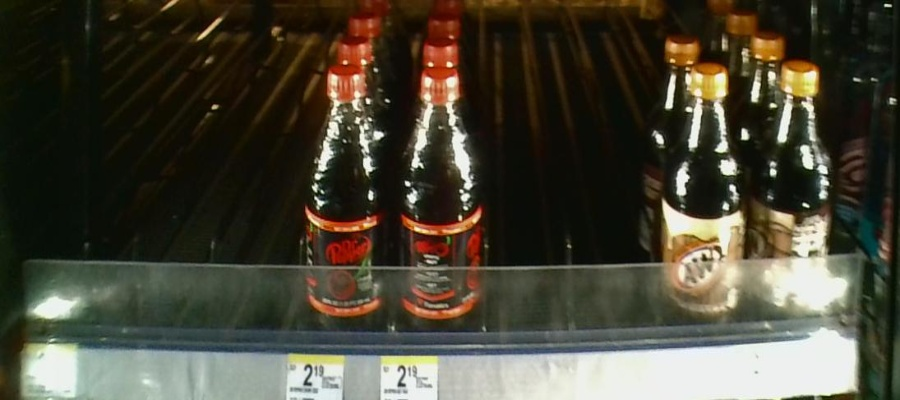bottle: (656, 60, 750, 329), (395, 66, 484, 339), (299, 70, 385, 335), (761, 61, 836, 330)
